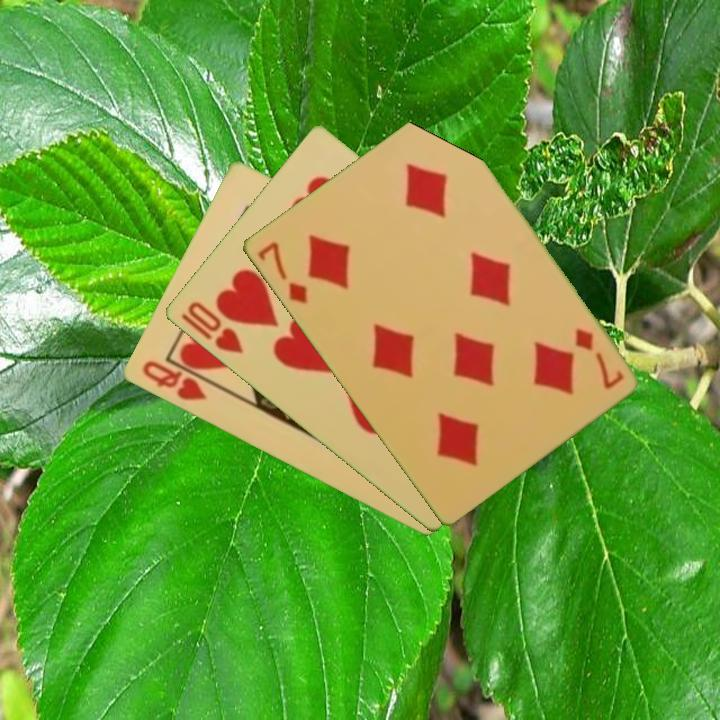10h: (176, 298, 246, 357)
7d: (253, 238, 310, 307), (570, 325, 627, 392)
Qh: (138, 357, 210, 404)
